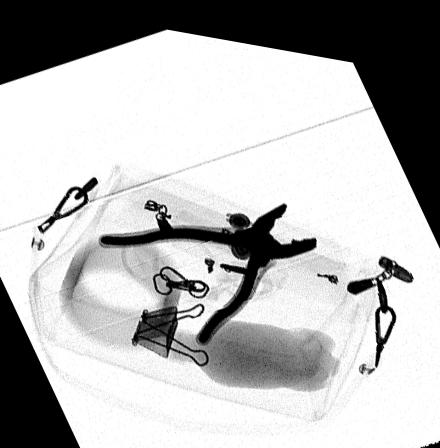Pliers: (99, 190, 317, 339)
